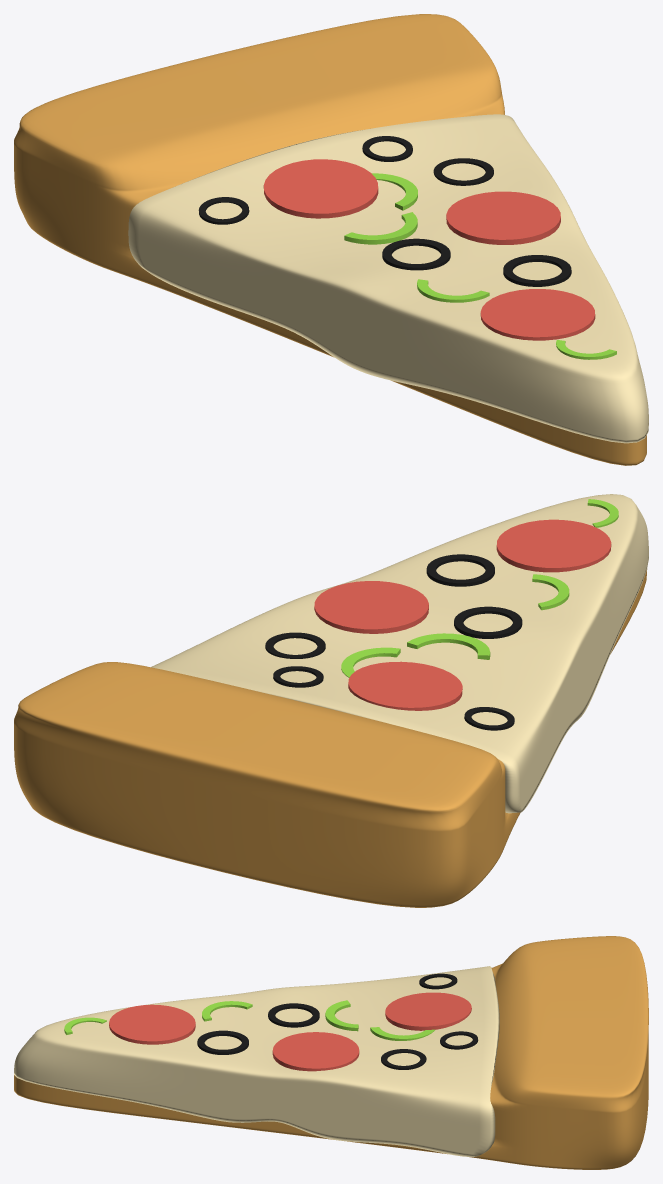
File: pizza.fbx
The picture shows the model from 3 angles, top to bottom: view 1: azimuth 30°, elevation 25°; view 2: azimuth 150°, elevation 25°; view 3: azimuth 270°, elevation 25°; orthographic projection. The views are drawn at different scales.
Visible parts, largest first — view 1: Cylinder.017; view 2: Cylinder.017; view 3: Cylinder.017.
Boxes of the visible parts, bbox=[...] form: Cylinder.017: bbox=[14, 14, 648, 465]; Cylinder.017: bbox=[14, 494, 648, 907]; Cylinder.017: bbox=[14, 936, 648, 1169].
Bounding box in the file's own units: 51.16 × 12.21 × 83.34.
